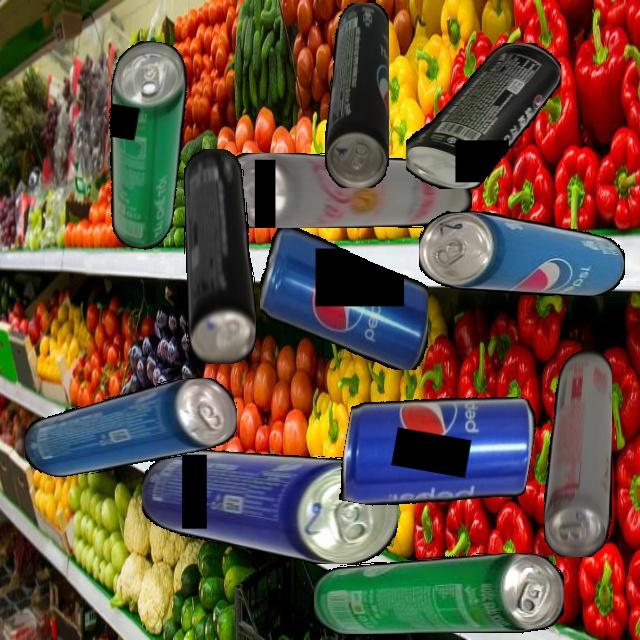debris: (336, 370, 540, 531), (141, 450, 398, 564), (85, 36, 202, 253), (259, 226, 428, 370), (405, 43, 561, 189), (24, 378, 237, 477), (313, 553, 564, 634), (224, 152, 472, 228), (419, 210, 625, 296), (183, 148, 256, 364), (543, 344, 612, 557), (324, 2, 389, 188)
